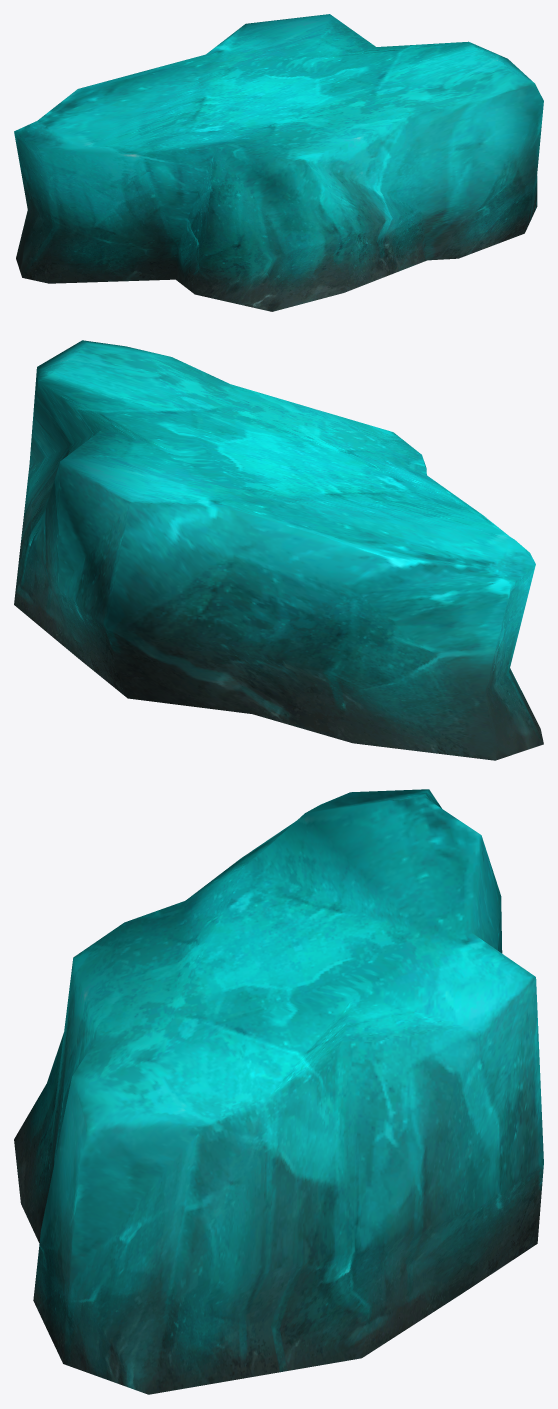
File: icecrown_rock_03.obj
3 renders of one model, top to bottom at view 1: azimuth 30°, elevation 25°; view 2: azimuth 150°, elevation 25°; view 3: azimuth 270°, elevation 25°, orthographic. The views are drawn at different scales.
Visible parts, largest first — view 1: icecrown_rock_03; view 2: icecrown_rock_03; view 3: icecrown_rock_03.
Boxes of the visible parts, box(x1,y1,x2,y2) form: icecrown_rock_03: box(14, 14, 543, 311); icecrown_rock_03: box(14, 340, 543, 760); icecrown_rock_03: box(14, 789, 543, 1394).
Bounding box in the file's own units: 10.5 × 3.5 × 6.01.
